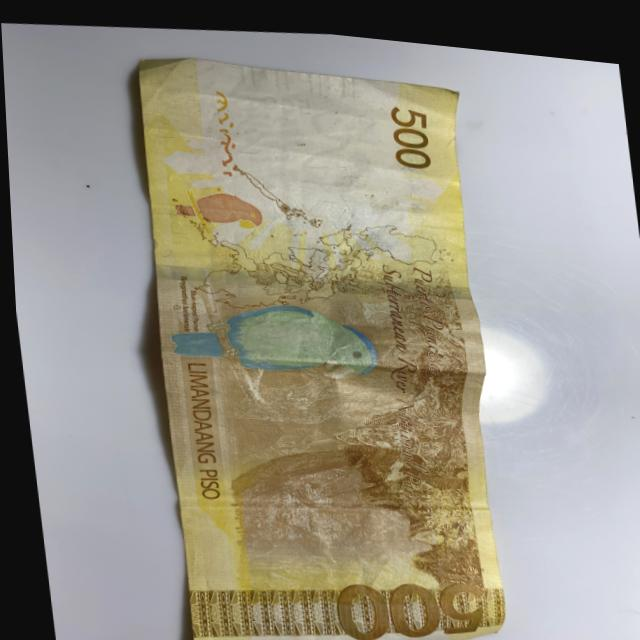500_big_parrot: (159, 284, 377, 388)
500_parrot_watermark: (169, 178, 264, 232)
value_watermark: (262, 83, 308, 111)
